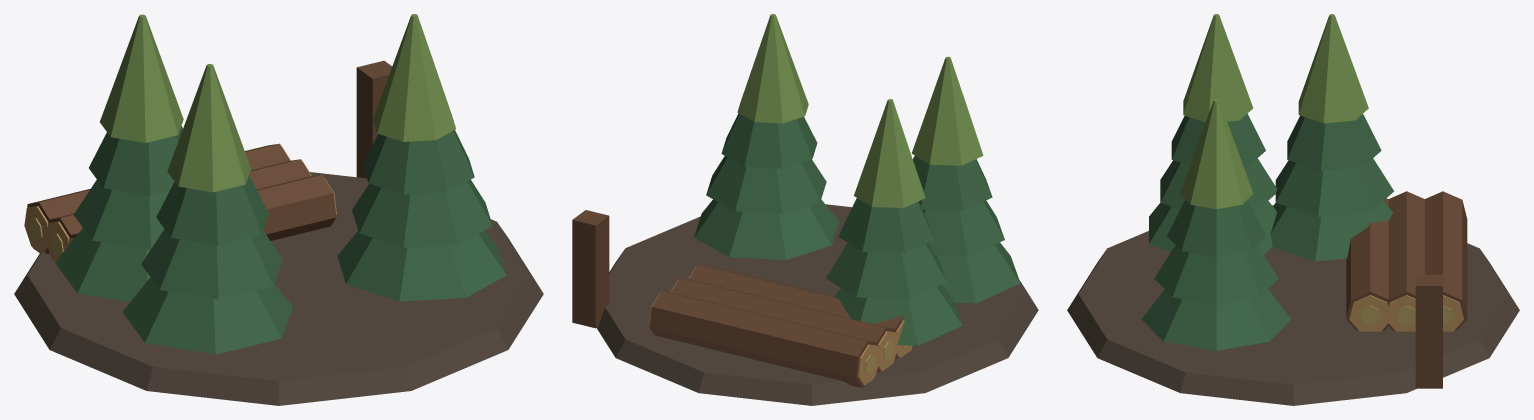
The model's file is Field_Wood_2.fbx.
3 views of the same model, side by side, from view 1: azimuth 30°, elevation 25°; view 2: azimuth 150°, elevation 25°; view 3: azimuth 270°, elevation 25° (orthographic). The views are drawn at different scales.
Visible parts, largest first — view 1: Field_Wood_2; view 2: Field_Wood_2; view 3: Field_Wood_2.
Part boxes in pixels (box(x1,y1,x2,y2)): Field_Wood_2: box(14, 14, 543, 405); Field_Wood_2: box(572, 14, 1038, 405); Field_Wood_2: box(1067, 14, 1519, 405).
Size of the model in its own units: 2 by 1.21 by 2.
Materials: 1 (1 with a texture image).
